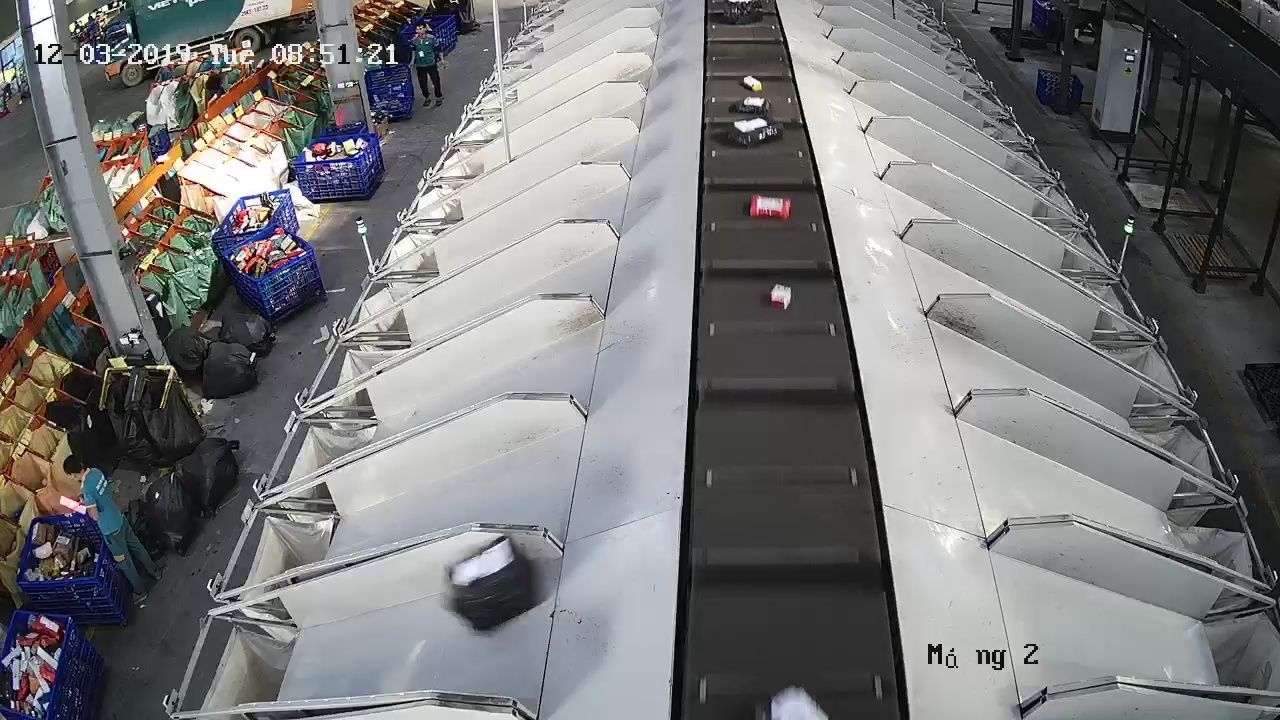parcel: (441, 534, 535, 633)
